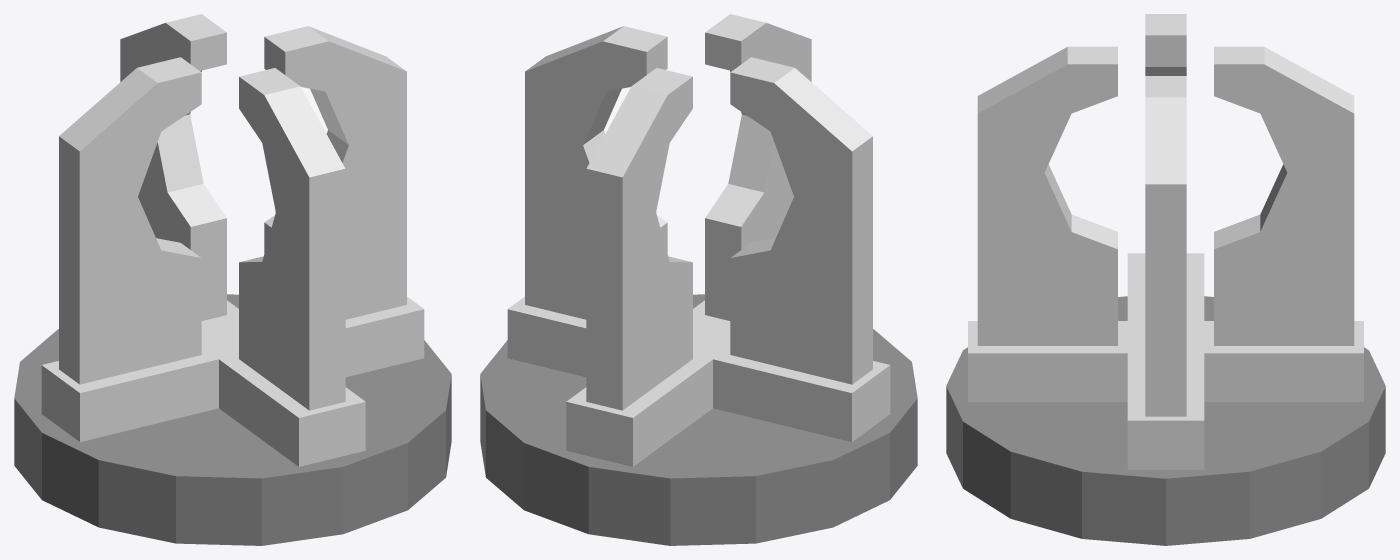
The model's file is Monument_Turn_02.fbx.
3 renders of one model, left to right at view 1: azimuth 30°, elevation 25°; view 2: azimuth 150°, elevation 25°; view 3: azimuth 270°, elevation 25°, orthographic.
Visible parts, largest first — view 1: BenchTurn_02_T_Colors; view 2: BenchTurn_02_T_Colors; view 3: BenchTurn_02_T_Colors.
Part boxes in pixels (x1=…): BenchTurn_02_T_Colors: x1=14, y1=14, x2=451, y2=545; BenchTurn_02_T_Colors: x1=480, y1=14, x2=917, y2=545; BenchTurn_02_T_Colors: x1=946, y1=14, x2=1385, y2=545.
Size of the model in its own units: 424 by 423 by 424.
